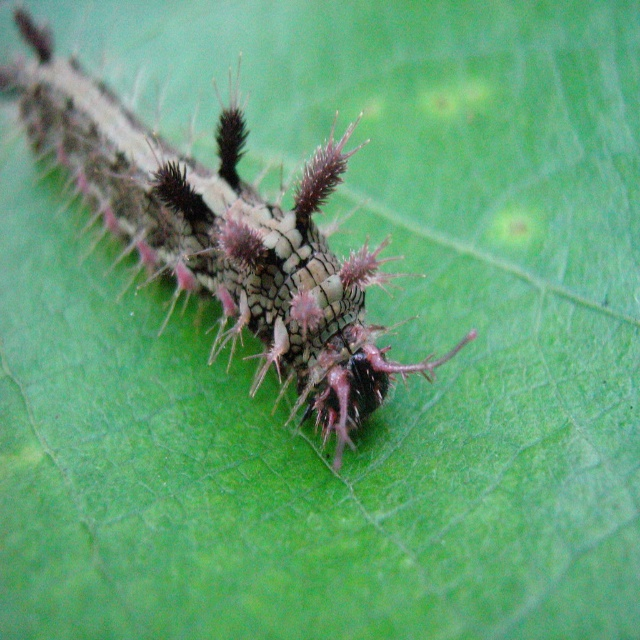Caterpillar: (0, 2, 479, 477)
